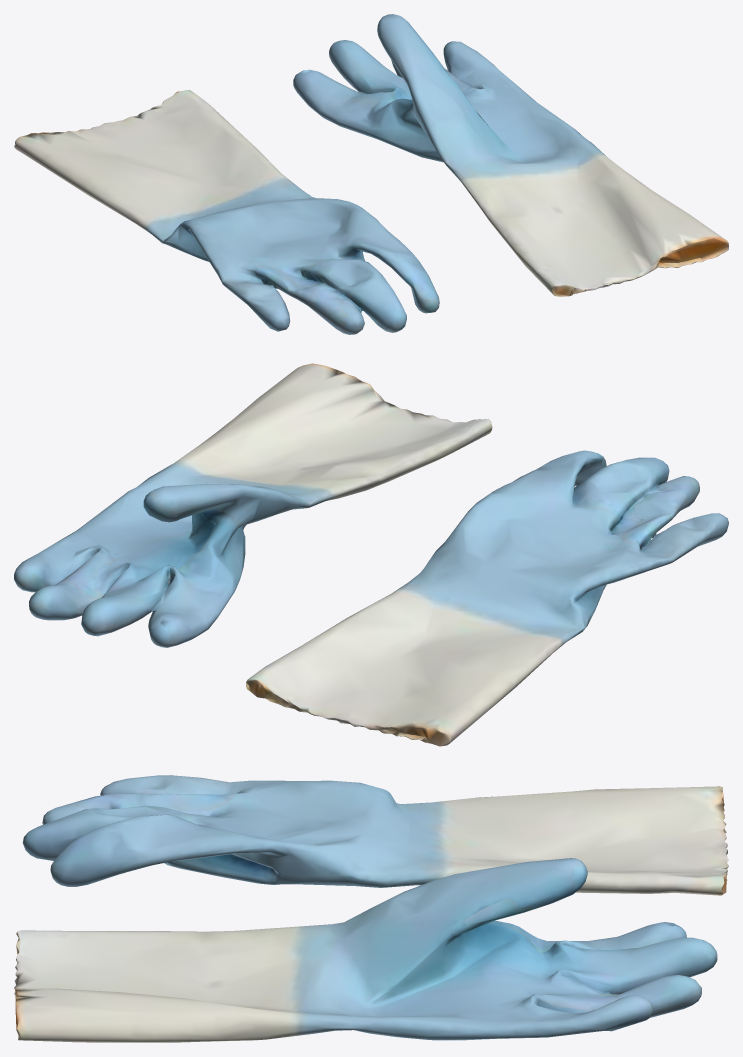
File: Clorox_Premium_Choice_Gloves_SM_1_pair-high.glb
The picture shows the model from 3 angles, top to bottom: view 1: azimuth 30°, elevation 25°; view 2: azimuth 150°, elevation 25°; view 3: azimuth 270°, elevation 25°; orthographic projection. The views are drawn at different scales.
Parts seen in each view (by area): view 1: Clorox_Premium_Choice_Gloves_SM_1_pair; view 2: Clorox_Premium_Choice_Gloves_SM_1_pair; view 3: Clorox_Premium_Choice_Gloves_SM_1_pair.
Part boxes in pixels (x1,y1,x2,y2): Clorox_Premium_Choice_Gloves_SM_1_pair: (14, 14, 728, 334); Clorox_Premium_Choice_Gloves_SM_1_pair: (14, 363, 728, 746); Clorox_Premium_Choice_Gloves_SM_1_pair: (14, 775, 728, 1042).
Size of the model in its own units: 0.2741 by 0.0642 by 0.3263.
Materials: 1 (1 with a texture image).
